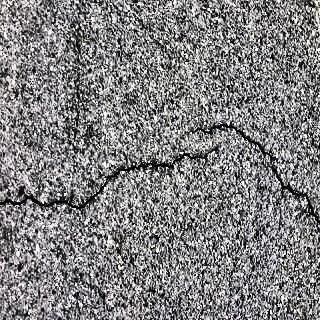crack: (6, 78, 316, 254)
